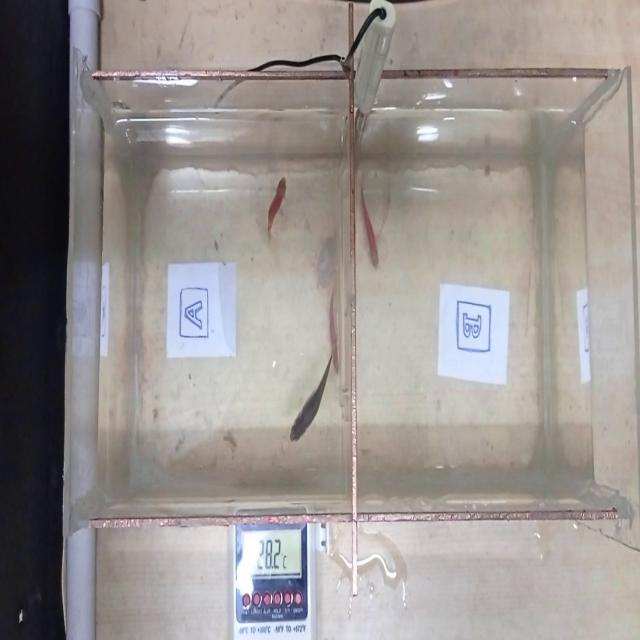Fish A1: (285, 352, 333, 455)
Fish A2: (258, 171, 288, 258)
Fish A3: (324, 285, 347, 382)
Fish B: (358, 155, 392, 285)
